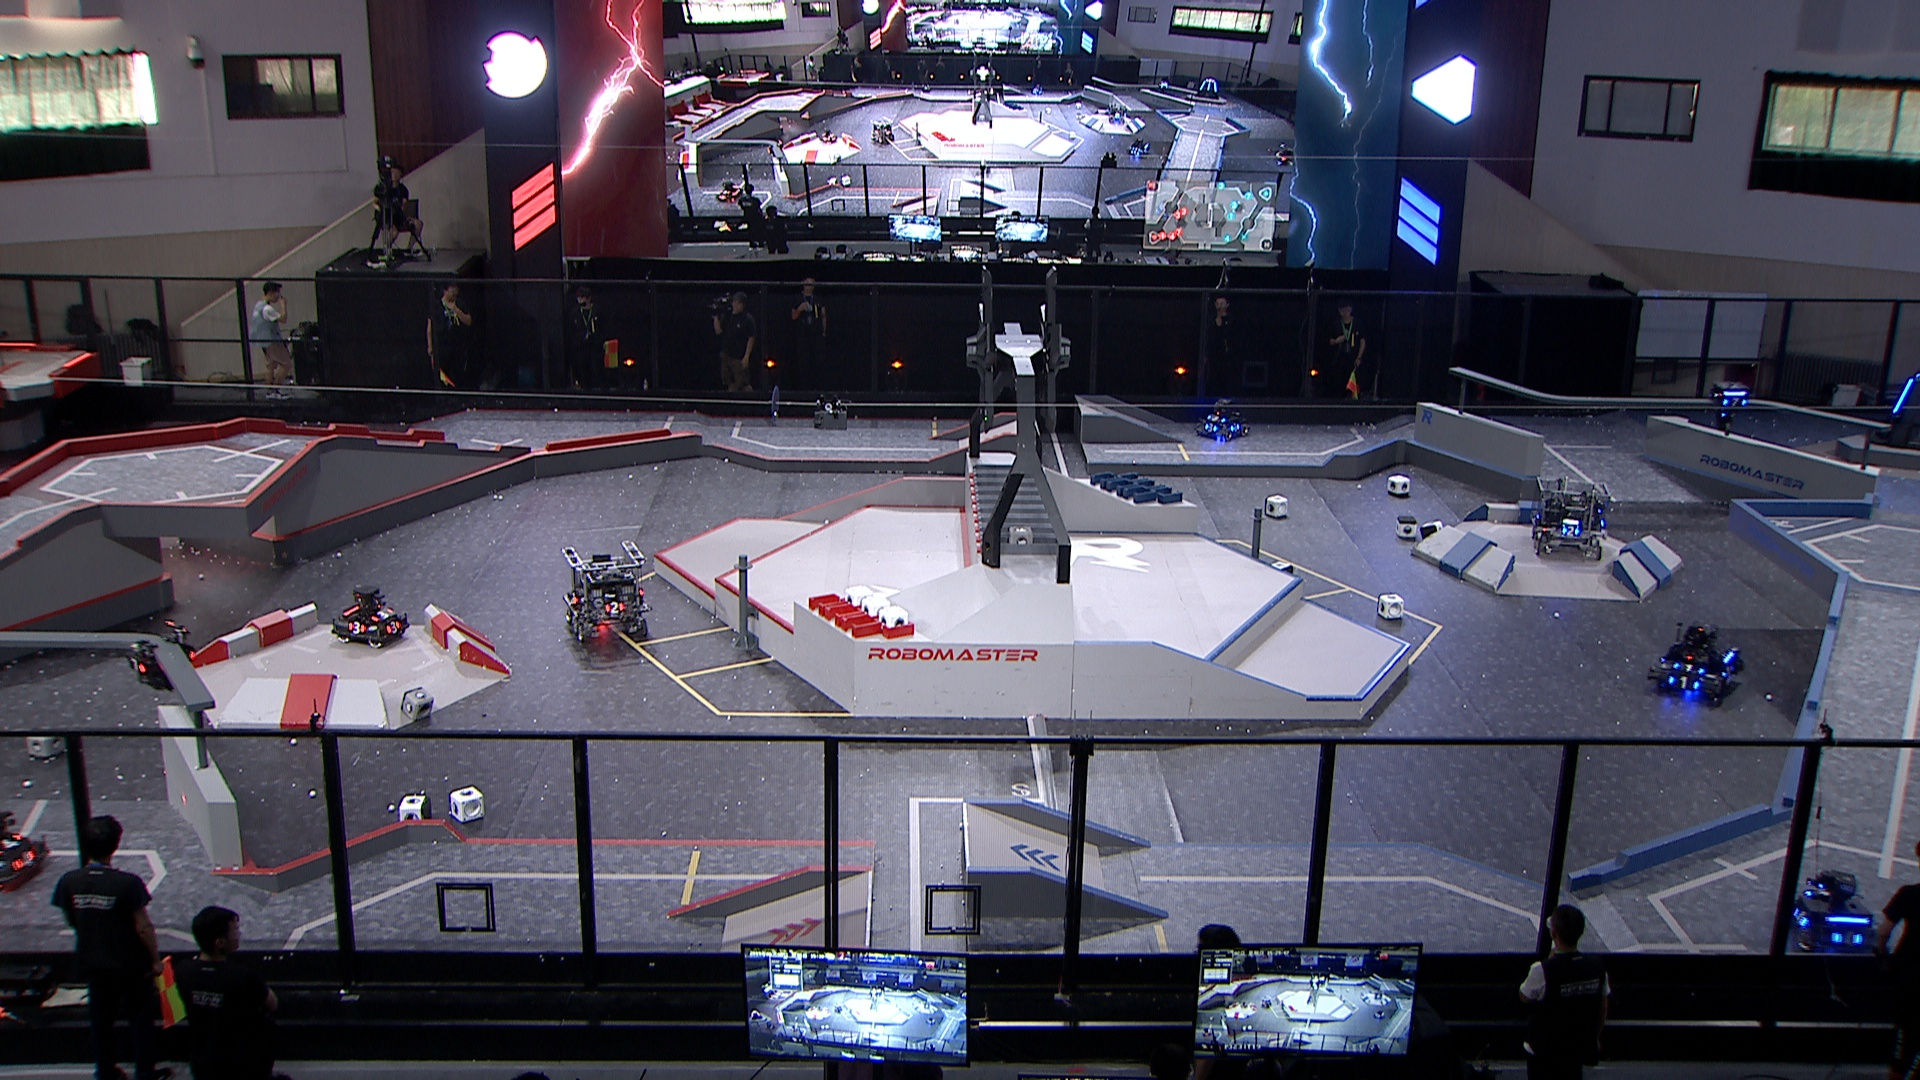armor: (1890, 377, 1913, 414), (1832, 930, 1863, 948), (121, 651, 149, 673), (12, 847, 36, 870), (1, 832, 25, 855), (1667, 675, 1702, 690), (1673, 662, 1706, 676), (1789, 905, 1811, 927), (371, 605, 396, 622), (1722, 396, 1749, 409), (603, 599, 624, 615), (384, 618, 401, 636), (1718, 665, 1735, 680), (1205, 413, 1228, 425), (344, 621, 367, 633), (1561, 526, 1581, 538), (1807, 887, 1832, 897), (566, 593, 580, 604), (1203, 423, 1218, 433), (1230, 422, 1242, 433)
base: (1863, 367, 1920, 458)
car: (556, 541, 655, 646), (1779, 866, 1882, 956), (1647, 618, 1747, 708), (1528, 476, 1618, 564), (327, 582, 411, 647), (1193, 400, 1247, 439)
ignore: (713, 178, 745, 204), (868, 117, 897, 145), (1192, 78, 1222, 102), (1129, 135, 1149, 158)
watcher: (121, 618, 199, 694), (1702, 381, 1755, 433)
